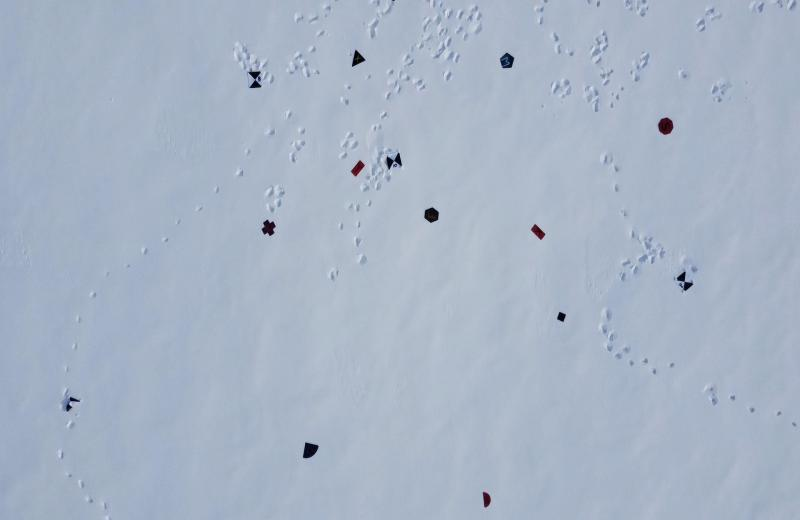Cross: (260, 219, 277, 238)
Hexagon: (423, 207, 440, 224)
Octagon: (656, 117, 674, 135)
Pentagon: (499, 52, 515, 71)
Quarter Circle: (300, 440, 320, 461)
Rectangle: (349, 158, 366, 178), (530, 222, 546, 242)
Semi Circle: (481, 490, 493, 510)
Square: (556, 310, 567, 325)
Triangle: (351, 49, 369, 68)
